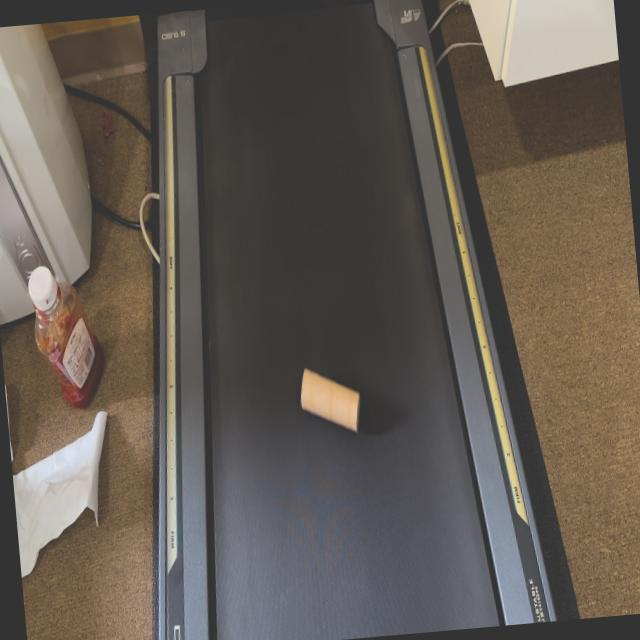Recycle: (292, 359, 368, 447)
